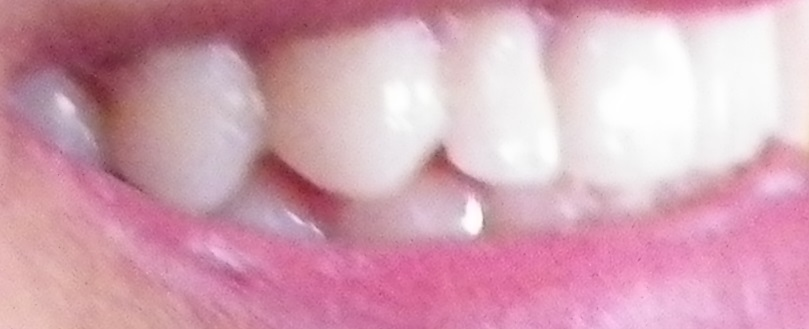boca: (22, 25, 800, 239)
